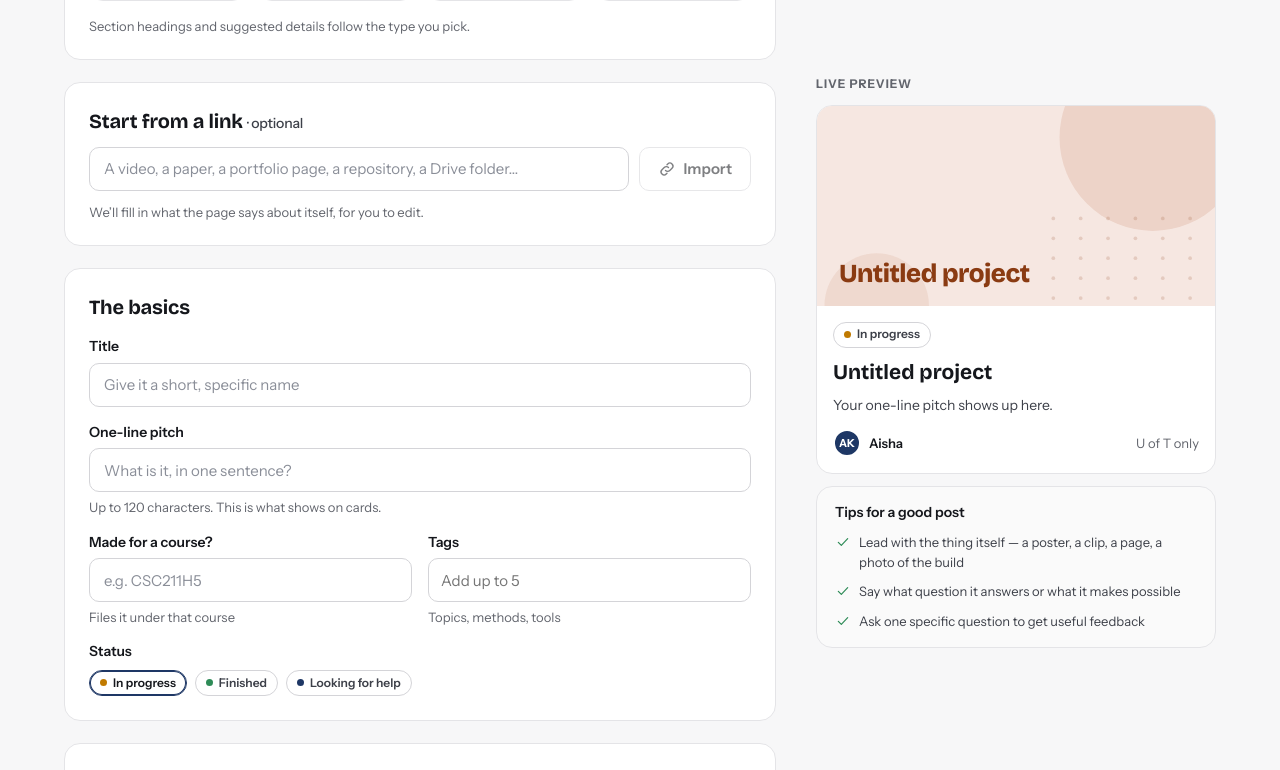
Test case: the editor, starting a project › keeps the draft private and lists what failed
(page scrolled)
In the field with placeholder "Give it a short, specific name": (420, 385) [89,363,751,407], type "Mussels downstream"
(page scrolled)
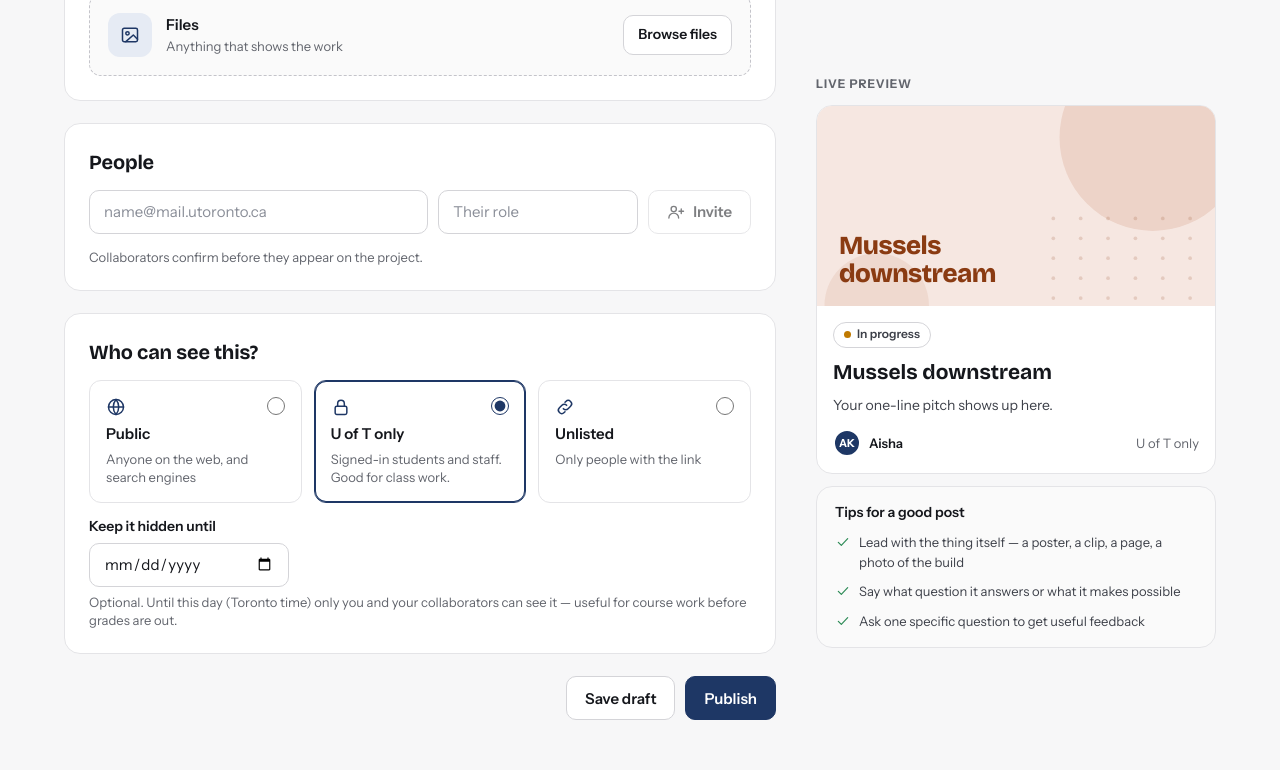
Click the button "Publish": (731, 698) [686,676,776,720]
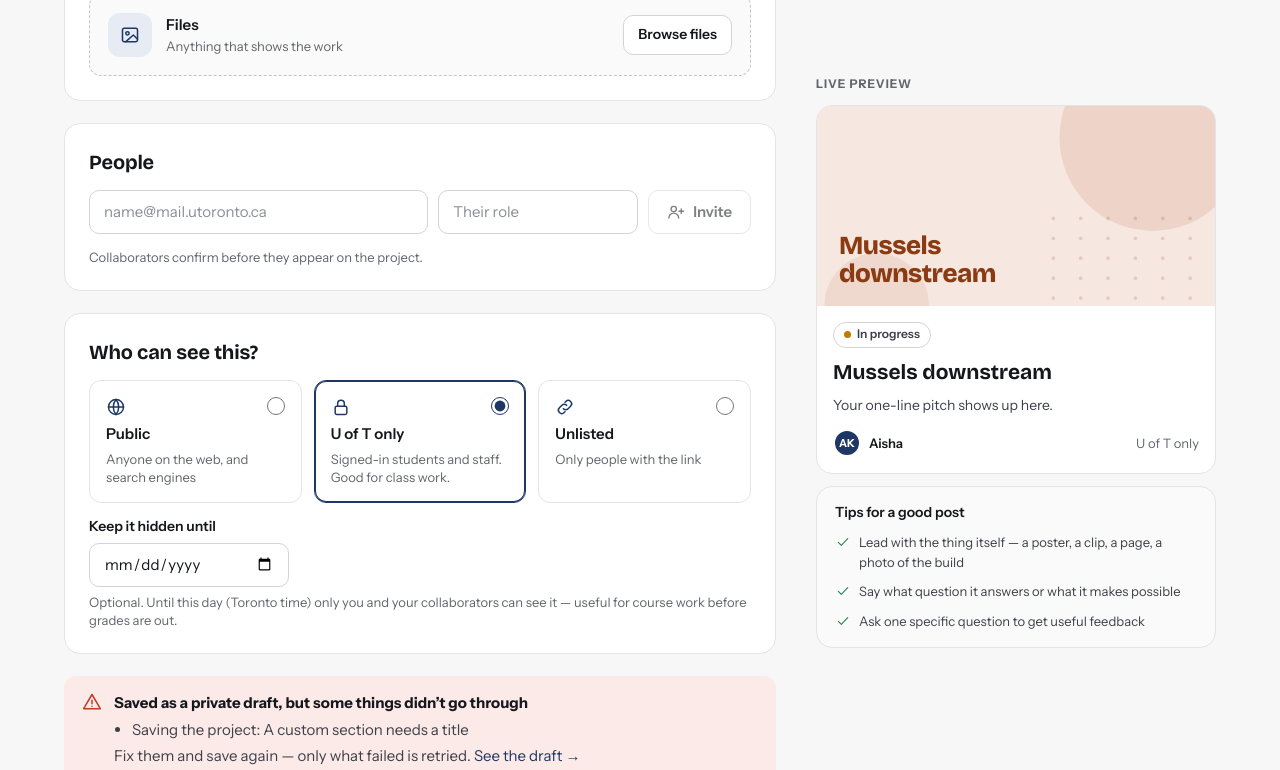
Expected: the text "Saved as a private draft, but some things didn’t go through" is shown, [114,693,528,712]
Expected: the list item "Saving the project: A custom section needs a title" is shown, [132,720,469,739]
